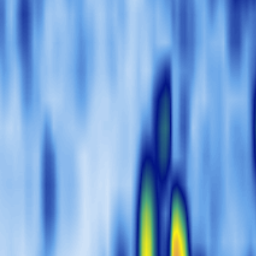defect: (163, 163, 190, 256), (137, 159, 160, 256), (155, 63, 171, 162), (228, 1, 256, 56), (248, 66, 256, 191), (43, 149, 54, 226), (19, 1, 32, 60)
